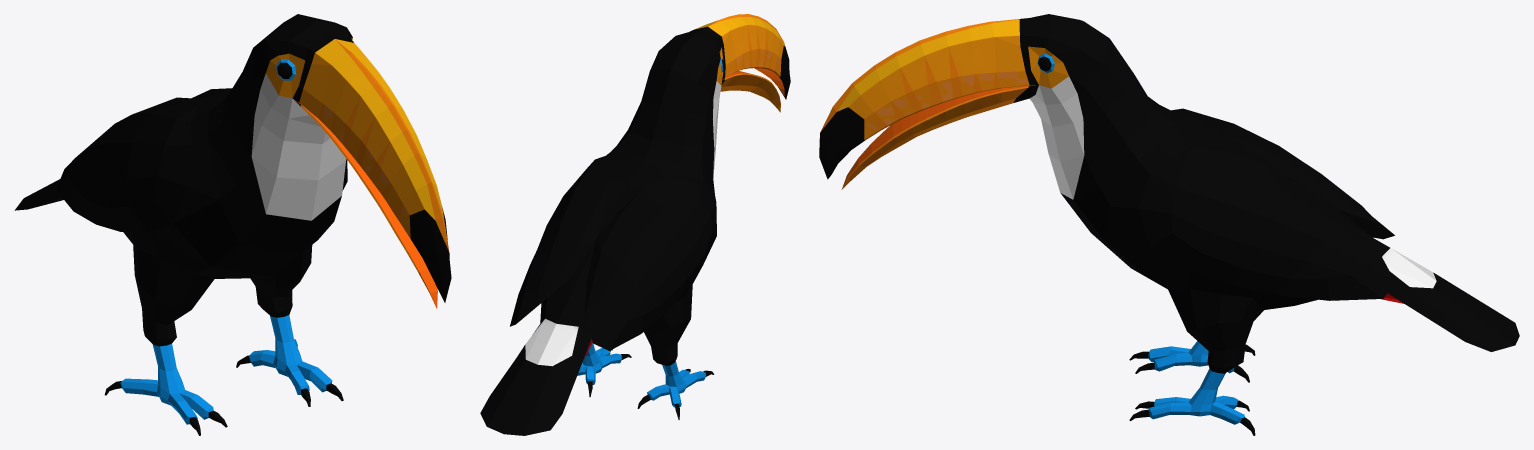
File: toucan.glb
3 views of the same model, side by side, from view 1: azimuth 30°, elevation 25°; view 2: azimuth 150°, elevation 25°; view 3: azimuth 270°, elevation 25° (orthographic). The views are drawn at different scales.
Visible parts, largest first — view 1: node-0; view 2: node-0; view 3: node-0.
Boxes of the visible parts, box(x1,y1,x2,y2) form: node-0: box(14, 14, 451, 435); node-0: box(480, 14, 790, 435); node-0: box(819, 14, 1519, 435).
Bounding box in the file's own units: 0.1815 × 0.3802 × 0.6334.
1 material, 1 textured.
